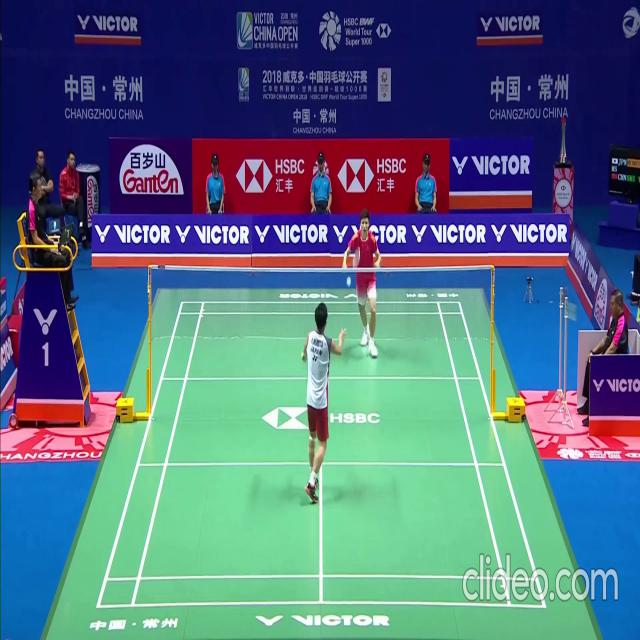Shuttlecock: (346, 277, 351, 285)
